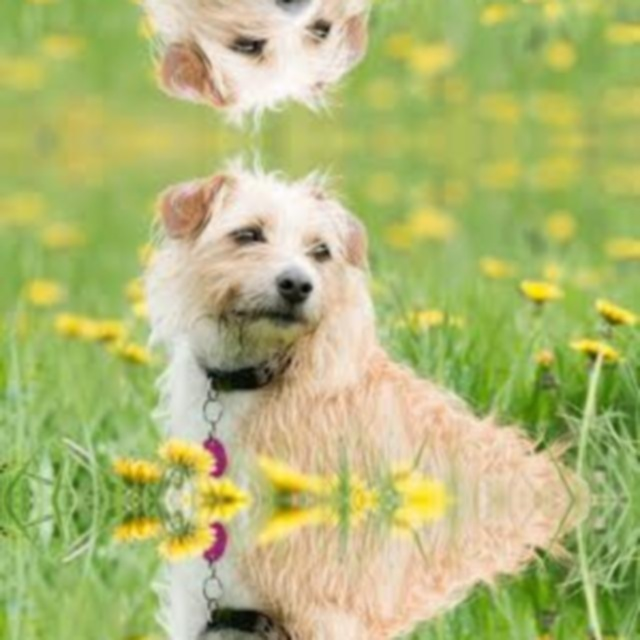dog: (141, 152, 521, 499), (141, 499, 521, 640), (141, 0, 521, 127)
